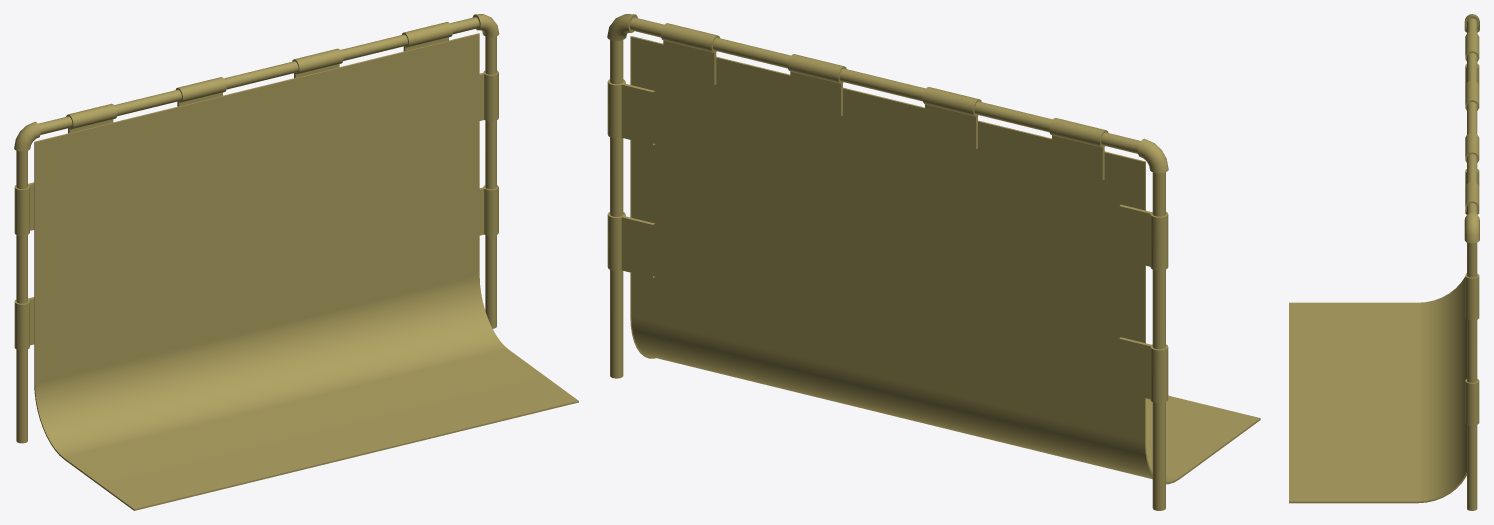
The model's file is Bluescreen_Background.fbx.
3 renders of one model, left to right at view 1: azimuth 30°, elevation 25°; view 2: azimuth 150°, elevation 25°; view 3: azimuth 270°, elevation 25°, orthographic. The views are drawn at different scales.
Visible parts, largest first — view 1: Bluescreen_Background; view 2: Bluescreen_Background; view 3: Bluescreen_Background.
Boxes of the visible parts, left/top/right/bottom form: Bluescreen_Background: left=14, top=14, right=578, bottom=510; Bluescreen_Background: left=607, top=14, right=1260, bottom=510; Bluescreen_Background: left=1289, top=14, right=1479, bottom=510.
Bounding box in the file's own units: 336 × 209 × 125.
